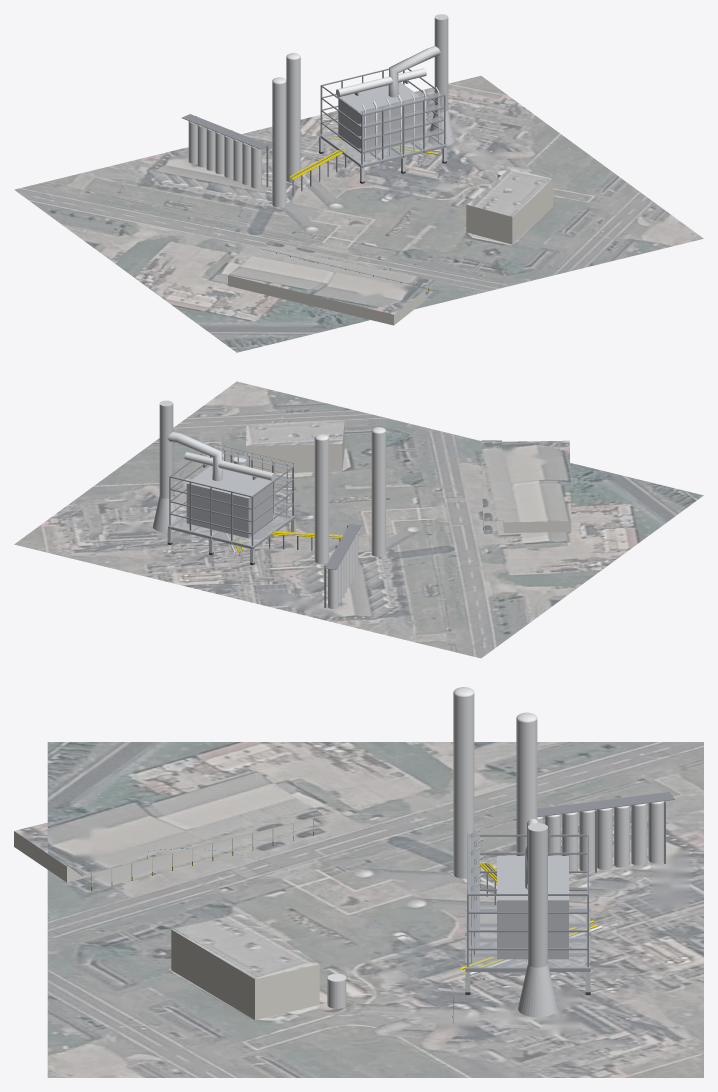
File: model_3d_balongan.glb
The picture shows the model from 3 angles, top to bottom: view 1: azimuth 30°, elevation 25°; view 2: azimuth 150°, elevation 25°; view 3: azimuth 270°, elevation 25°; orthographic projection. The views are drawn at different scales.
Visible parts, largest first — view 1: Plane, b, b.002, Cube.074, Cylinder.072, b.001, Cylinder.071, Cube.019, Cylinder.001, c.010, Cylinder, Cube.079 (+1 smaller); view 2: Plane, b, Cube.074, b.002, Cylinder.072, Cylinder.071, b.001, Cylinder.001, Cube.019, c.010, Cylinder, Cone (+1 smaller); view 3: Plane, b, b.002, Cube.074, b.001, Cylinder.072, Cube.019, Cylinder.001, Cylinder.071, Cone, Cube.079, Cylinder.064 (+7 smaller).
Part boxes in pixels (<box>): Plane: <box>14,76,703,352</box>; b: <box>228,250,425,325</box>; b.002: <box>466,168,553,244</box>; Cube.074: <box>338,82,423,154</box>; Cylinder.072: <box>272,82,286,207</box>; b.001: <box>260,241,435,288</box>; Cylinder.071: <box>286,57,300,182</box>; Cube.019: <box>319,129,446,165</box>; Cylinder.001: <box>434,14,448,112</box>; c.010: <box>388,46,440,97</box>; Cylinder: <box>336,68,426,97</box>; Cube.079: <box>182,114,268,149</box>; Plane: <box>14,381,703,658</box>; b: <box>502,440,571,532</box>; Cube.074: <box>186,466,272,538</box>; b.002: <box>246,421,344,472</box>; Cylinder.072: <box>371,431,385,556</box>; Cylinder.071: <box>314,438,328,563</box>; b.001: <box>481,440,503,521</box>; Cylinder.001: <box>159,400,173,498</box>; Cube.019: <box>168,510,295,547</box>; c.010: <box>167,432,222,481</box>; Cylinder: <box>184,452,275,480</box>; Cone: <box>153,496,179,532</box>; Plane: <box>47,742,703,1077</box>; b: <box>14,771,308,882</box>; b.002: <box>171,913,319,1019</box>; Cube.074: <box>497,856,568,959</box>; b.001: <box>67,804,323,875</box>; Cylinder.072: <box>453,693,474,878</box>; Cube.019: <box>465,906,590,968</box>; Cylinder.001: <box>528,823,547,967</box>; Cylinder.071: <box>516,718,537,855</box>; Cone: <box>518,964,557,1017</box>; Cube.079: <box>537,792,674,817</box>; Cylinder.064: <box>631,804,647,865</box>.
Size of the model in its own units: 159 by 40.74 by 138.
53 materials, 1 textured.
